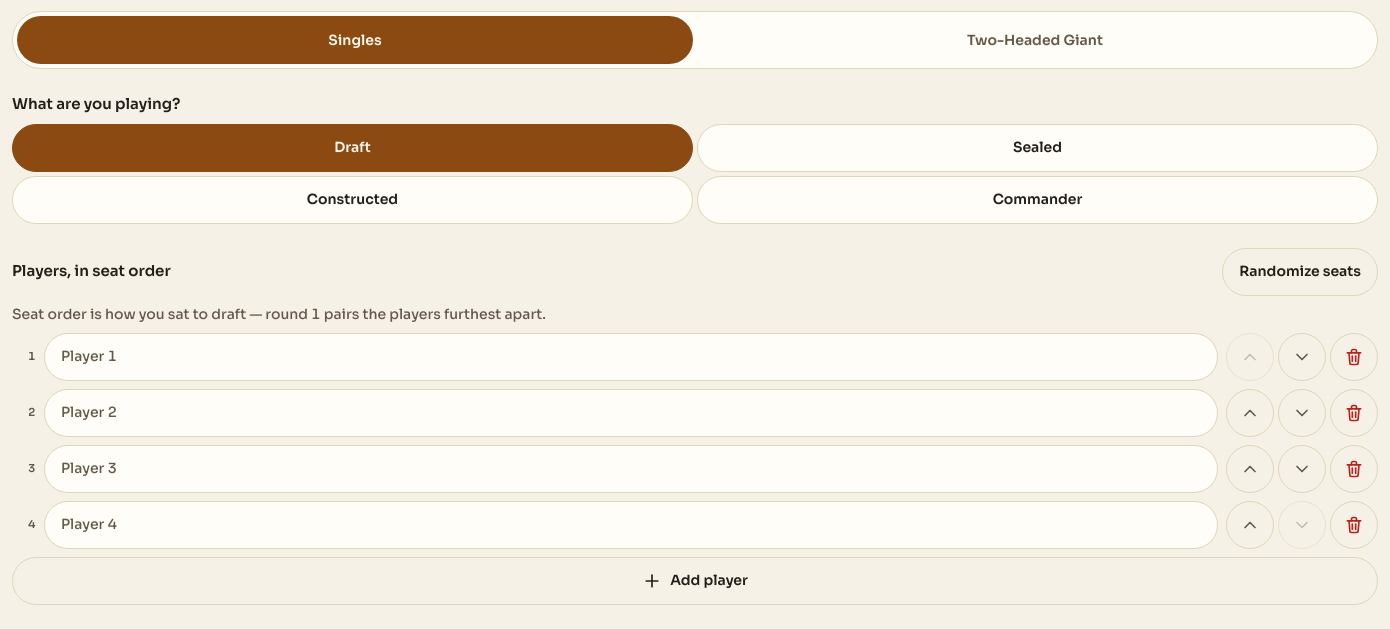
TournamentSetupScreen › forces best-of-one for Two-Headed Giant and says why
Click the button "Two-Headed Giant" at [1035, 40], box [697,16,1373,64]
(page scrolled)
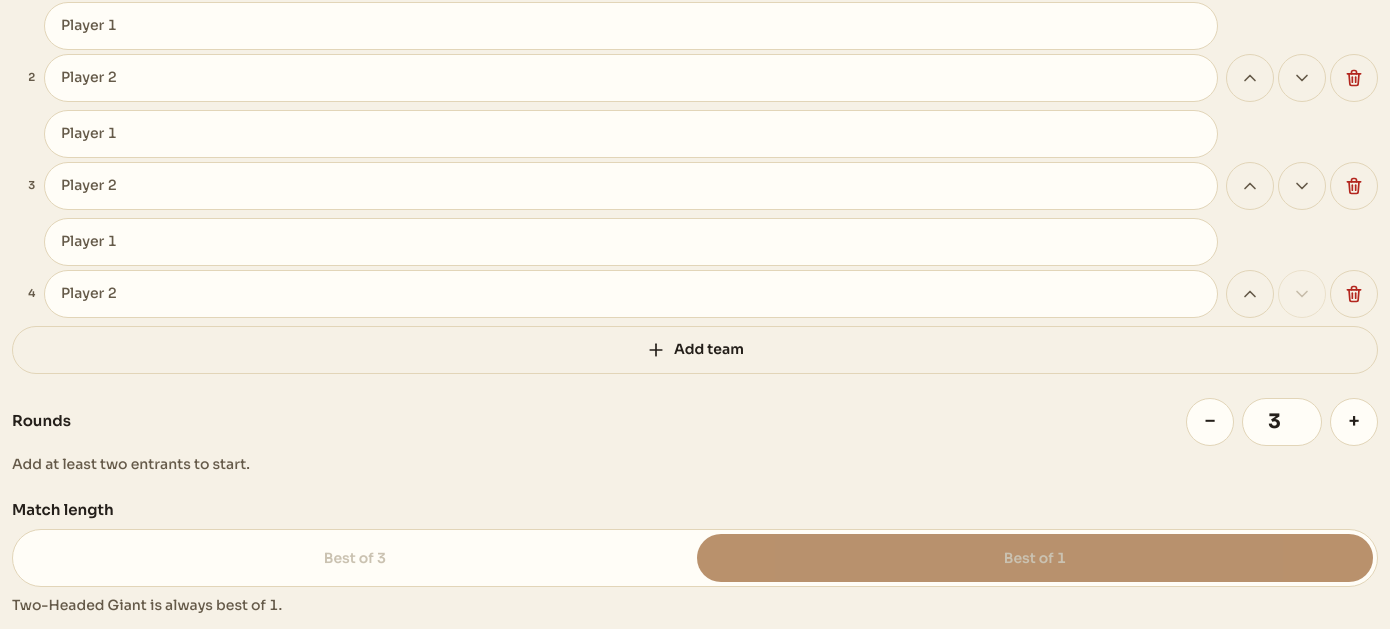
Expected: the text "Two-Headed Giant is always best of 1." is shown, [12,596,282,614]
Expected: the button "Best of 3" is disabled, [17,534,693,582]
